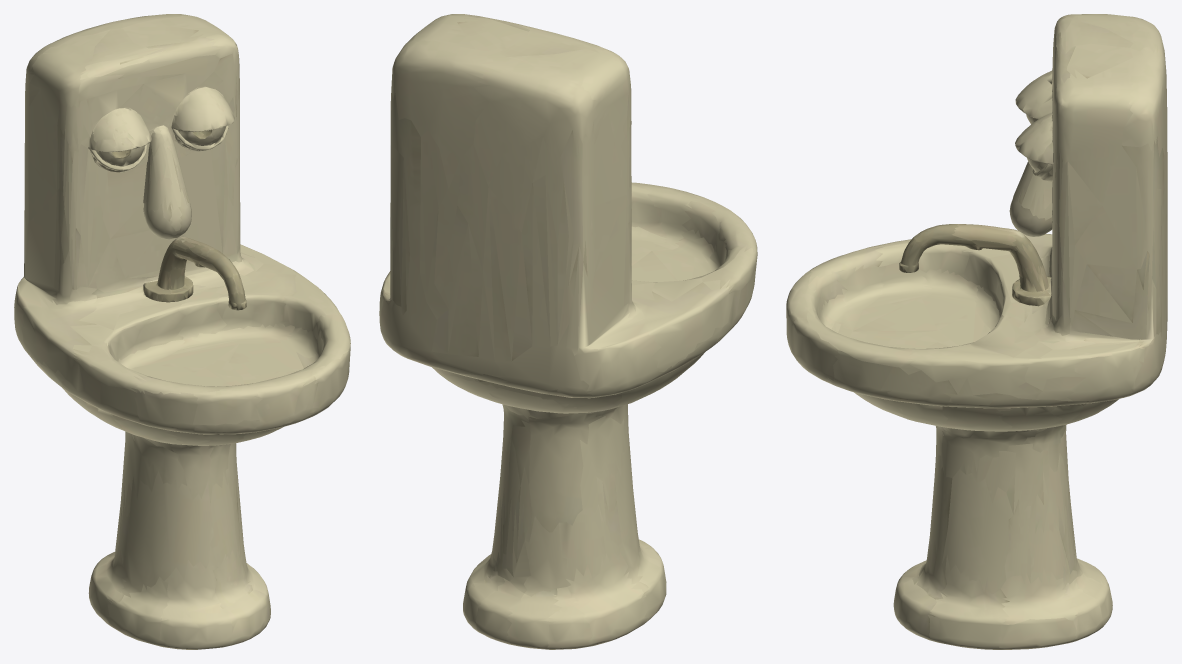
The model's file is sink.glb.
3 renders of one model, left to right at view 1: azimuth 30°, elevation 25°; view 2: azimuth 150°, elevation 25°; view 3: azimuth 270°, elevation 25°, orthographic. The views are drawn at different scales.
Visible parts, largest first — view 1: Mesh_0; view 2: Mesh_0; view 3: Mesh_0.
Boxes of the visible parts, <box> form: Mesh_0: <box>14,14,350,649</box>; Mesh_0: <box>379,14,757,649</box>; Mesh_0: <box>786,14,1167,649</box>.
Size of the model in its own units: 0.9468 by 1.9 by 1.16.
Materials: 1 (1 with a texture image).
